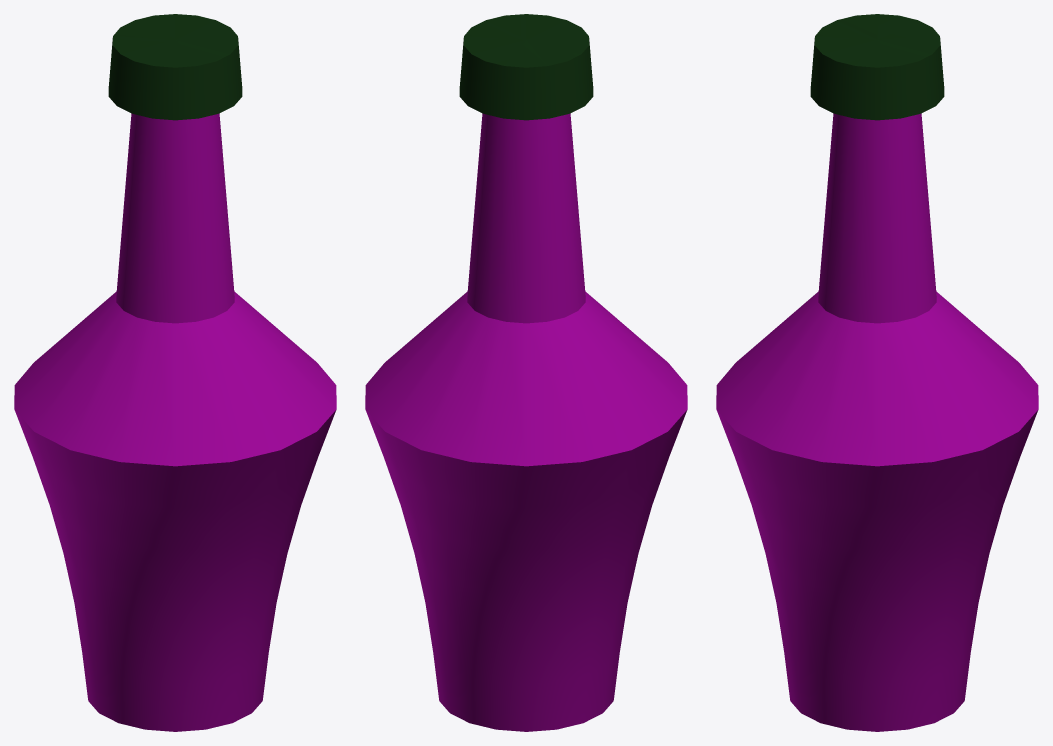
Rendered from Bottle2.FBX.
The picture shows the model from 3 angles, left to right: view 1: azimuth 30°, elevation 25°; view 2: azimuth 150°, elevation 25°; view 3: azimuth 270°, elevation 25°; orthographic projection.
Parts seen in each view (by area): view 1: PRP_Bottle2_HR_1; view 2: PRP_Bottle2_HR_1; view 3: PRP_Bottle2_HR_1.
Part boxes in pixels (left/top/right/bottom): PRP_Bottle2_HR_1: left=14, top=14, right=336, bottom=731; PRP_Bottle2_HR_1: left=365, top=14, right=687, bottom=731; PRP_Bottle2_HR_1: left=716, top=14, right=1038, bottom=731.
Bounding box in the file's own units: 16.71 × 36.92 × 16.47.
